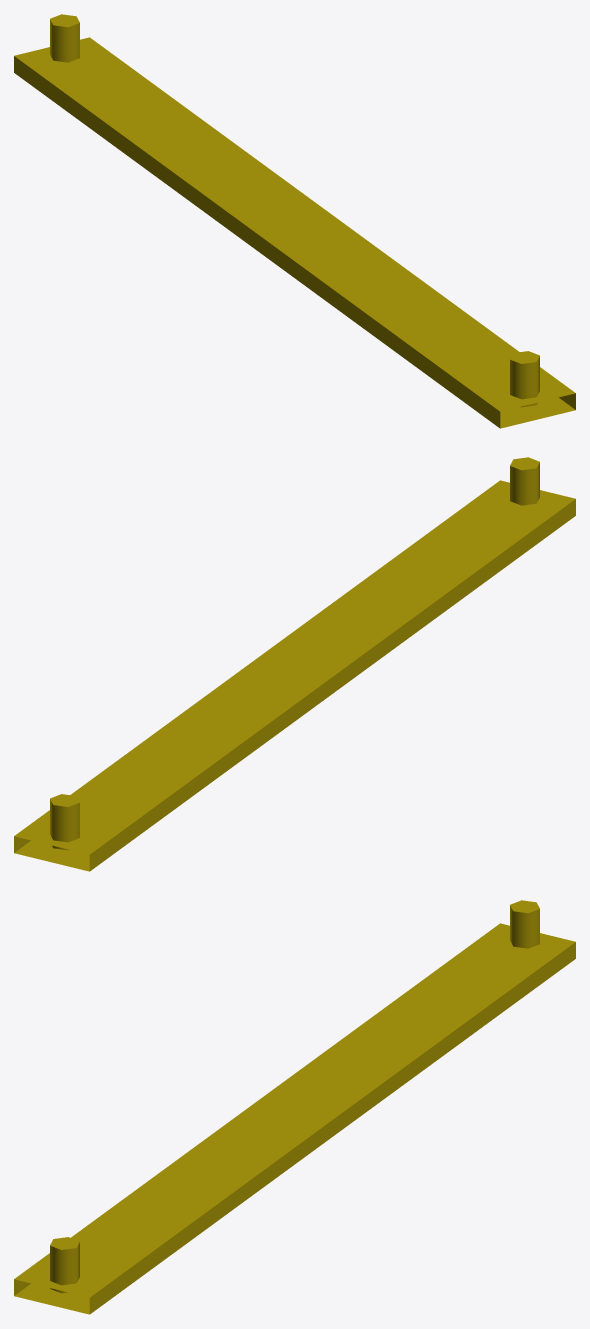
File: mur01_sota1.fbx
3 views of the same model, one above another, from view 1: azimuth 30°, elevation 25°; view 2: azimuth 150°, elevation 25°; view 3: azimuth 330°, elevation 25° (orthographic).
Parts seen in each view (by area): view 1: mur01_sota1; view 2: mur01_sota1; view 3: mur01_sota1.
Boxes of the visible parts, box(x1,y1,x2,y2) form: mur01_sota1: box(14, 14, 575, 428); mur01_sota1: box(14, 457, 575, 871); mur01_sota1: box(14, 900, 575, 1314).
Size of the model in its own units: 0.8993 by 0.5934 by 10.
